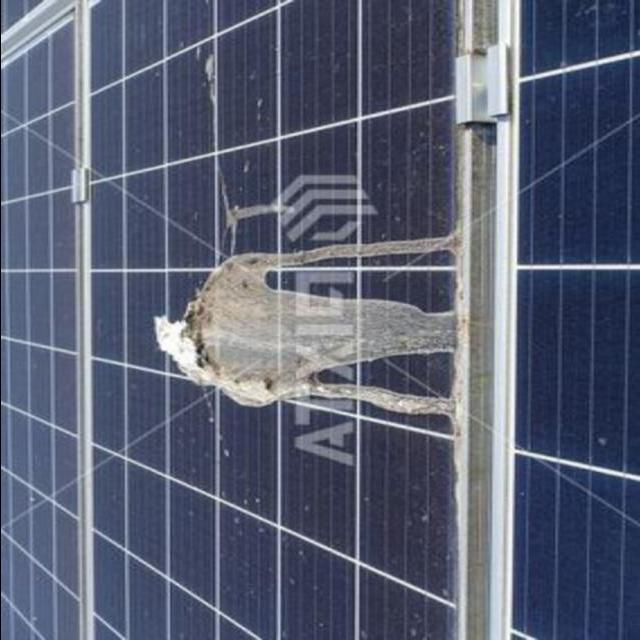soiled: (76, 1, 458, 640)
